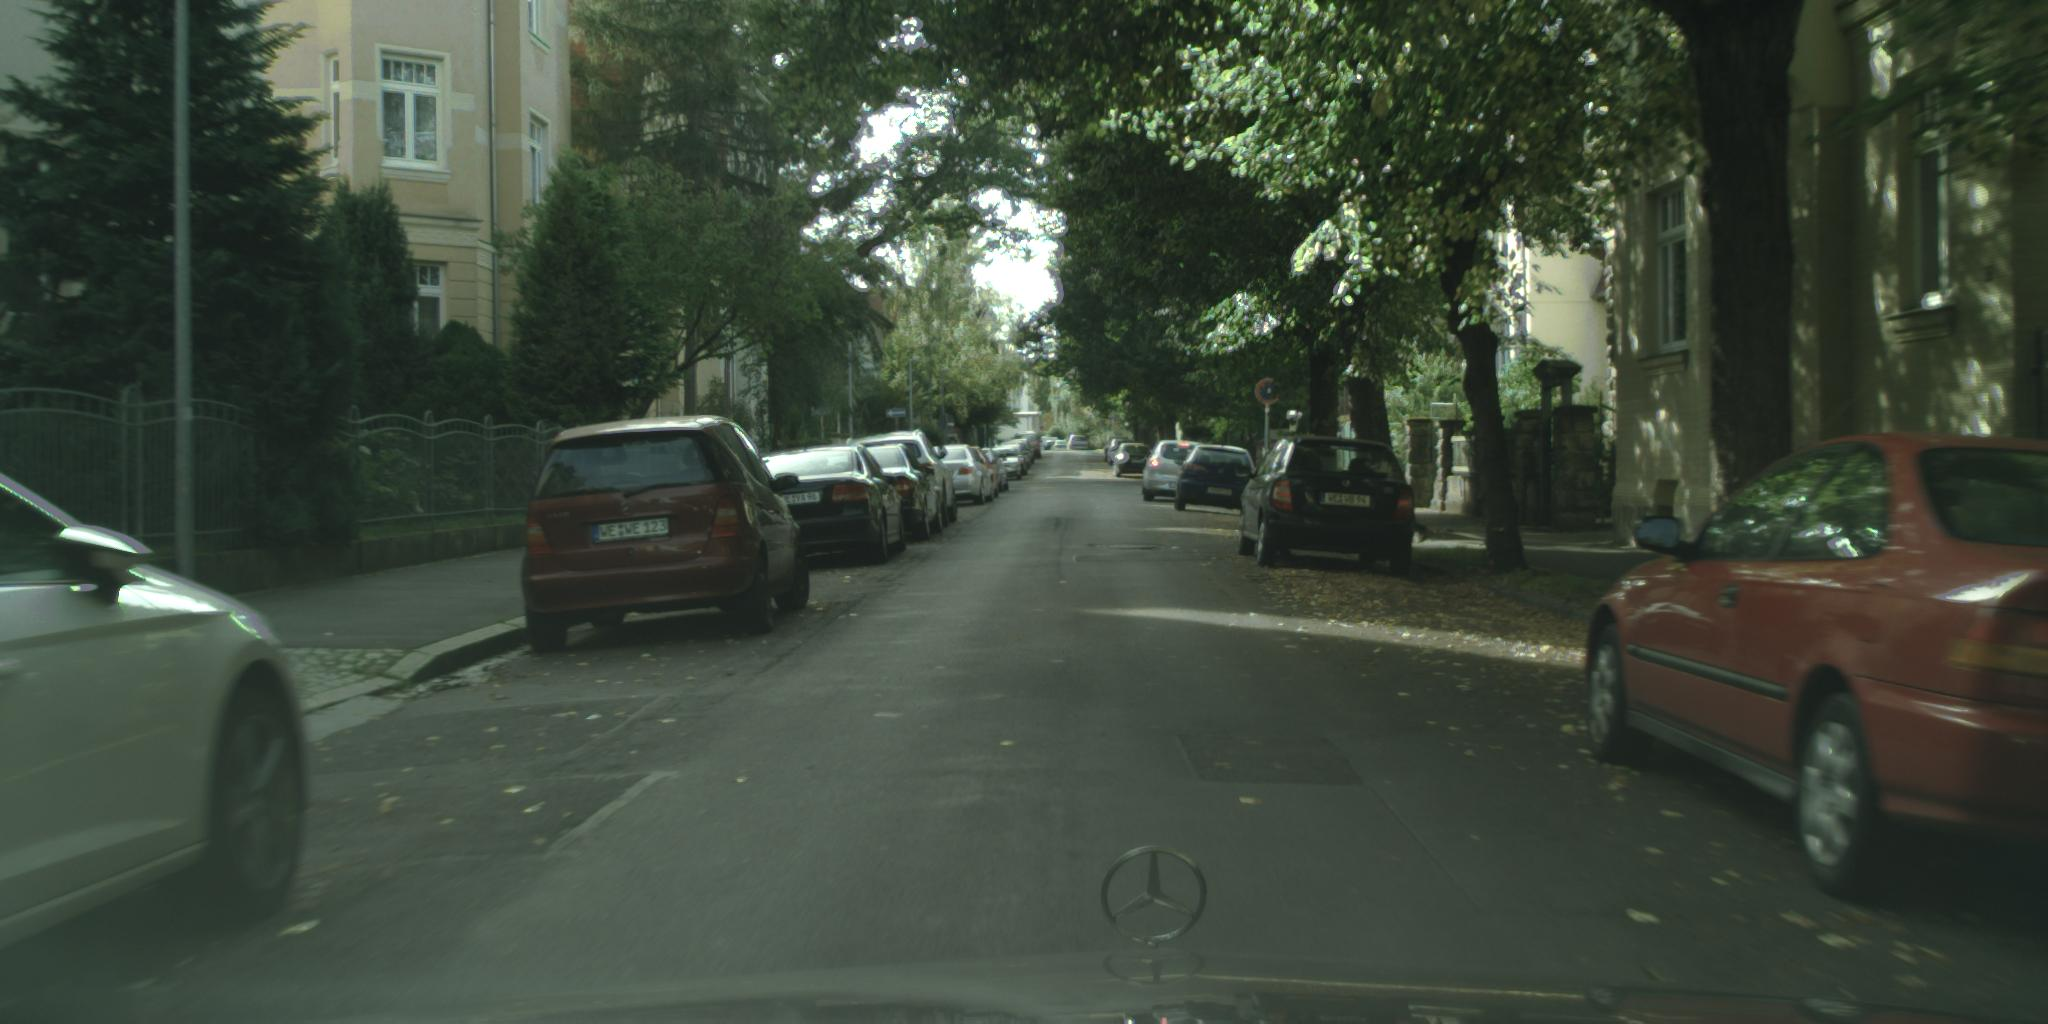car: (1584, 432, 2048, 905), (1, 468, 311, 957), (521, 414, 814, 654), (1236, 438, 1416, 575), (761, 445, 906, 566), (857, 428, 957, 526), (859, 444, 946, 541), (1176, 444, 1258, 511), (936, 444, 997, 508), (1143, 441, 1206, 502), (970, 447, 1000, 500), (1114, 443, 1155, 478), (981, 449, 1010, 491), (1014, 432, 1042, 458), (1068, 436, 1091, 451), (1053, 440, 1068, 451)
